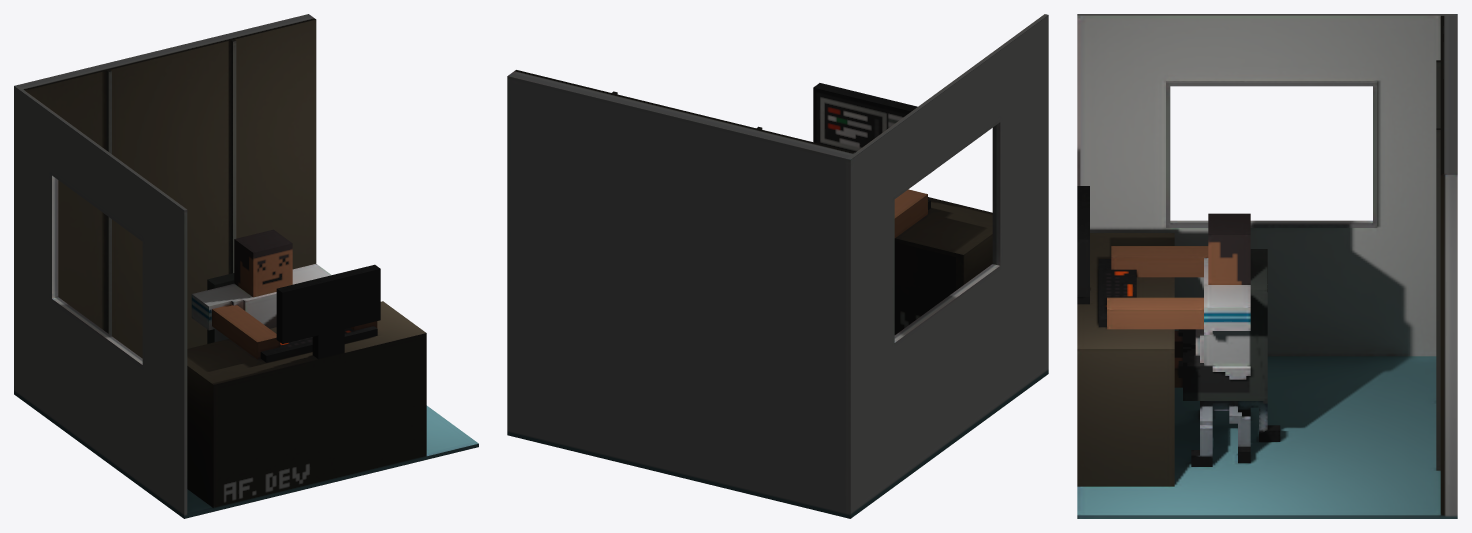
The model's file is andrew.glb.
3 renders of one model, left to right at view 1: azimuth 30°, elevation 25°; view 2: azimuth 150°, elevation 25°; view 3: azimuth 270°, elevation 25°, orthographic. The views are drawn at different scales.
Parts seen in each view (by area): view 1: andrew; view 2: andrew; view 3: andrew.
Part boxes in pixels (x1,y1,x2,y2): andrew: (14,14,478,518); andrew: (507,14,1048,518); andrew: (1077,14,1457,518).
Bounding box in the file's own units: 9 × 9 × 9.
1 material, 1 textured.
